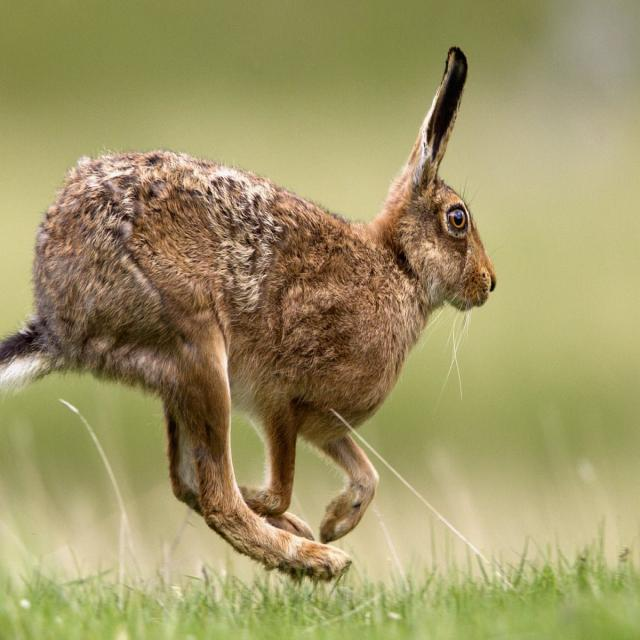Hare: (2, 38, 502, 581)
